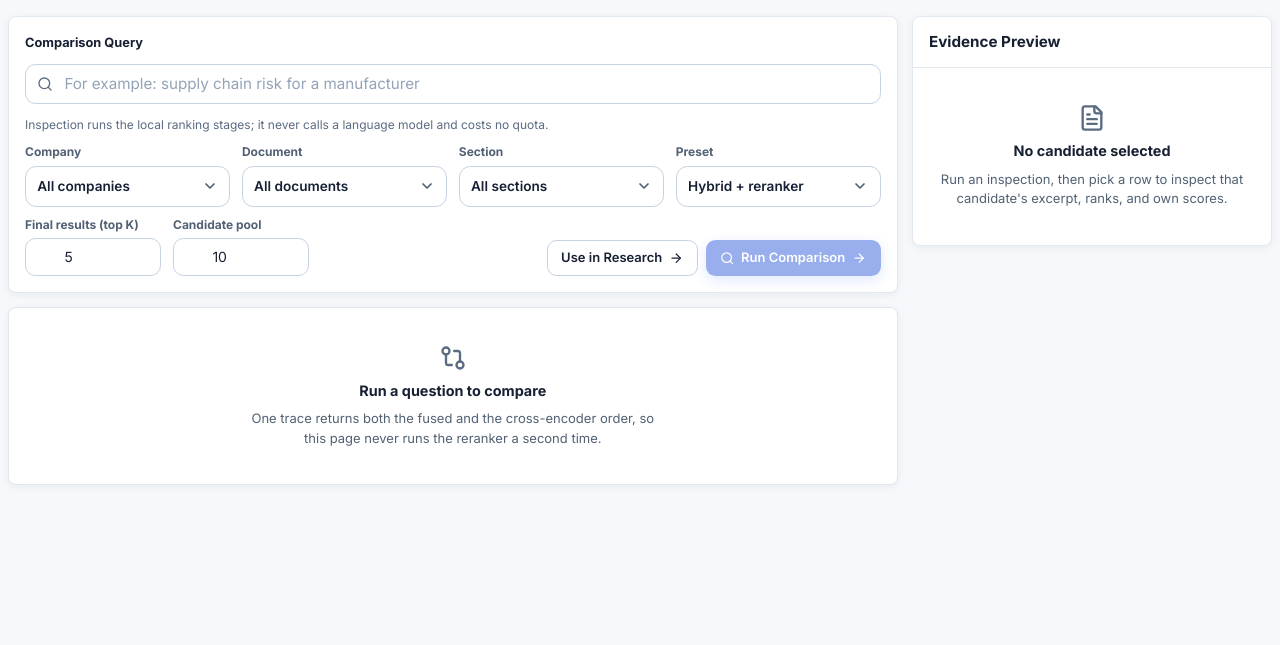
Test: RerankerPanel › states rank movement from the trace's own ranks
The image size is (1280, 645).
Type "supply chain risk" into the field labelled "Comparison Query" at (453, 84), box x1=25 y1=64 x2=881 y2=104
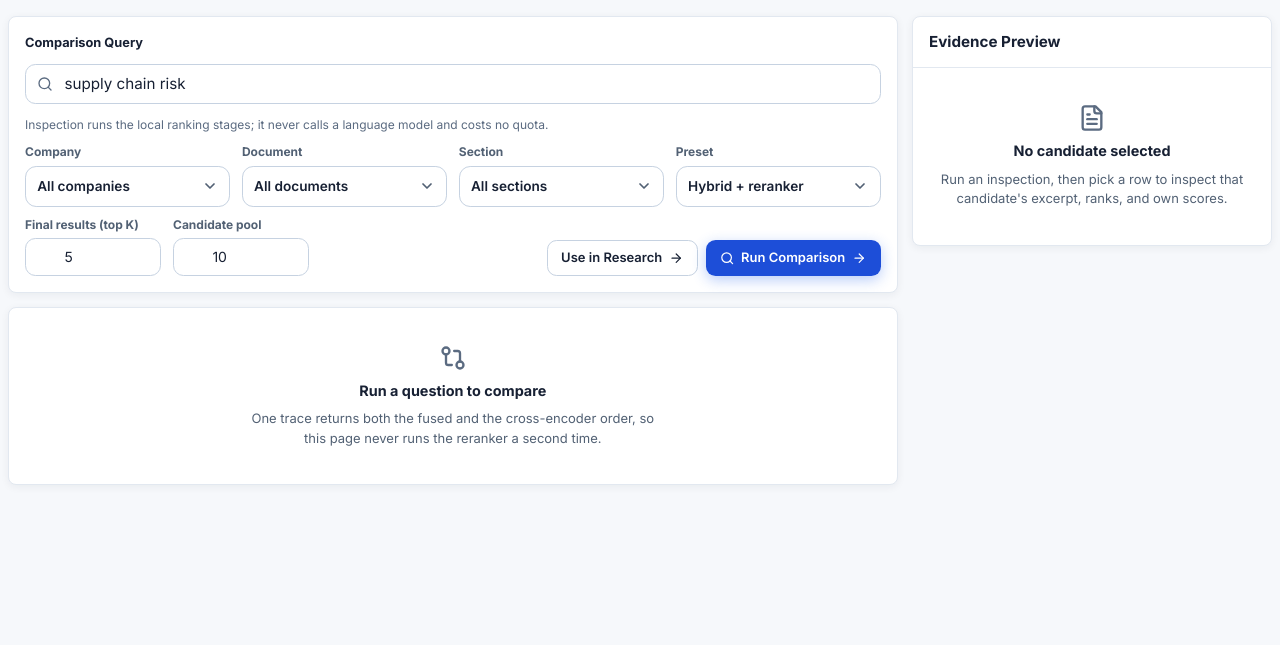
Submit the form labelled "Comparison Query", box x1=25 y1=33 x2=881 y2=276
(page scrolled)
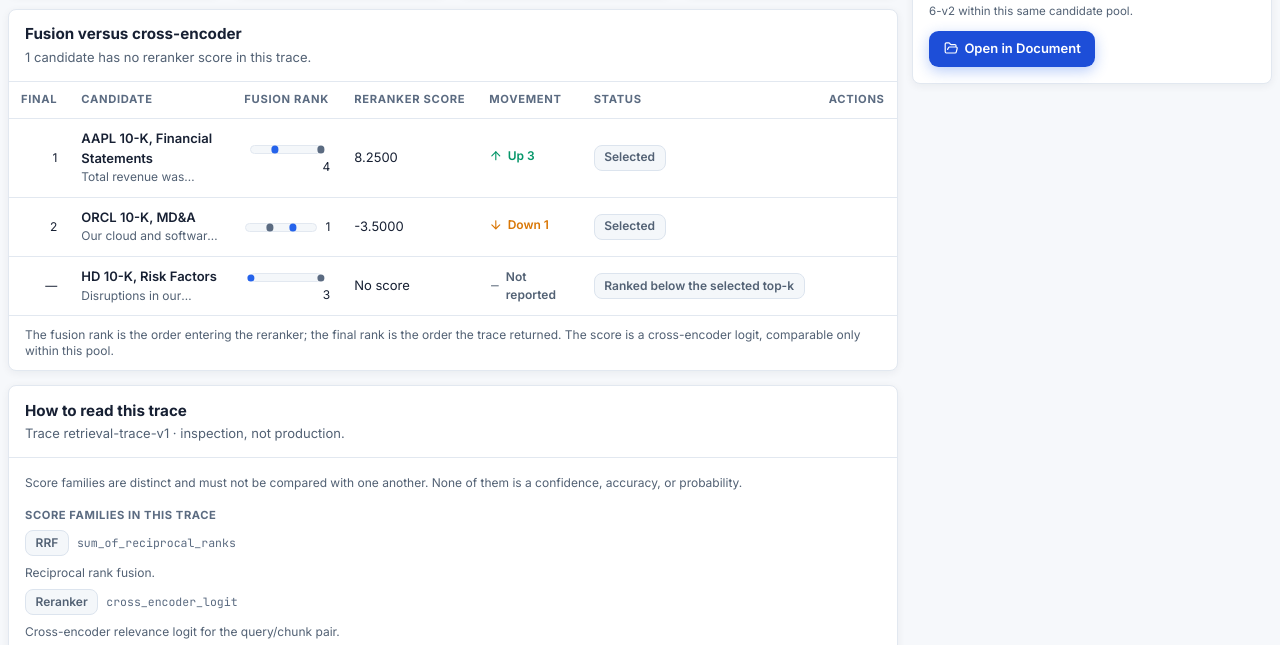
Check: the text "Up 3" is shown, box x1=489 y1=147 x2=535 y2=165
Check: the text "Down 1" is shown, box x1=489 y1=216 x2=549 y2=234
Check: the text "Not reported" is shown, box x1=489 y1=269 x2=556 y2=302
